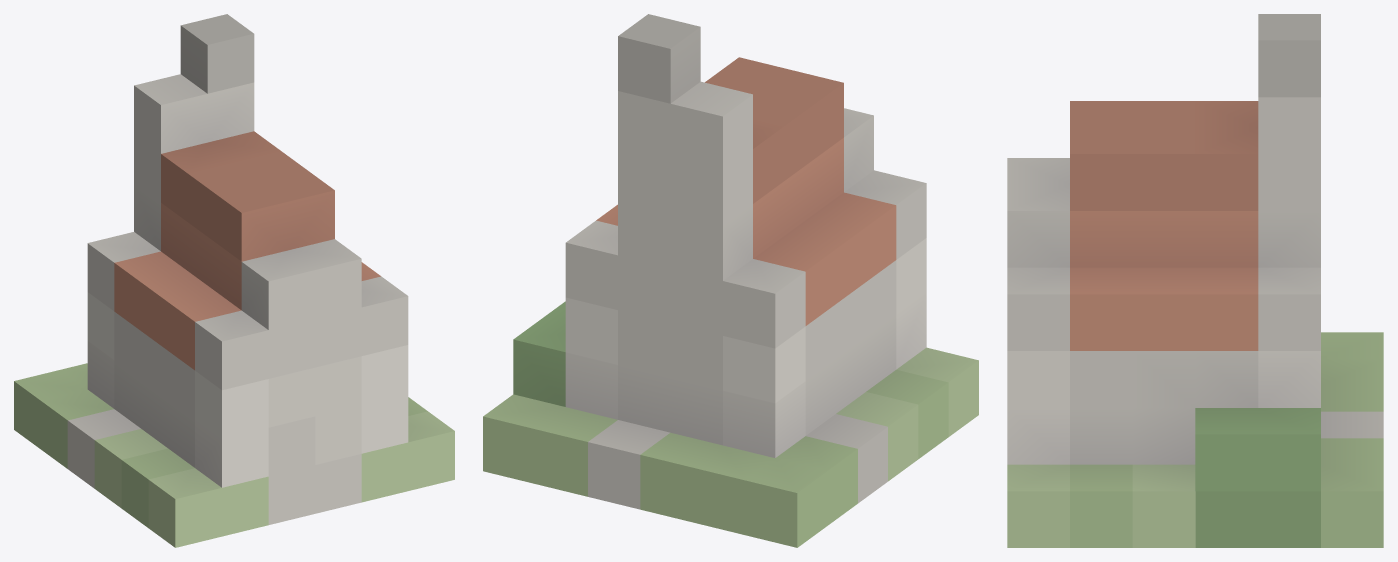
Rendered from chapel.lite.glb.
3 renders of one model, left to right at view 1: azimuth 30°, elevation 25°; view 2: azimuth 150°, elevation 25°; view 3: azimuth 270°, elevation 25°, orthographic. The views are drawn at different scales.
Parts seen in each view (by area): view 1: chapel; view 2: chapel; view 3: chapel.
Part boxes in pixels (x1,y1,x2,y2): chapel: [14, 14, 454, 547]; chapel: [483, 14, 978, 547]; chapel: [1007, 14, 1383, 547].
Size of the model in its own units: 3 by 4 by 3.
